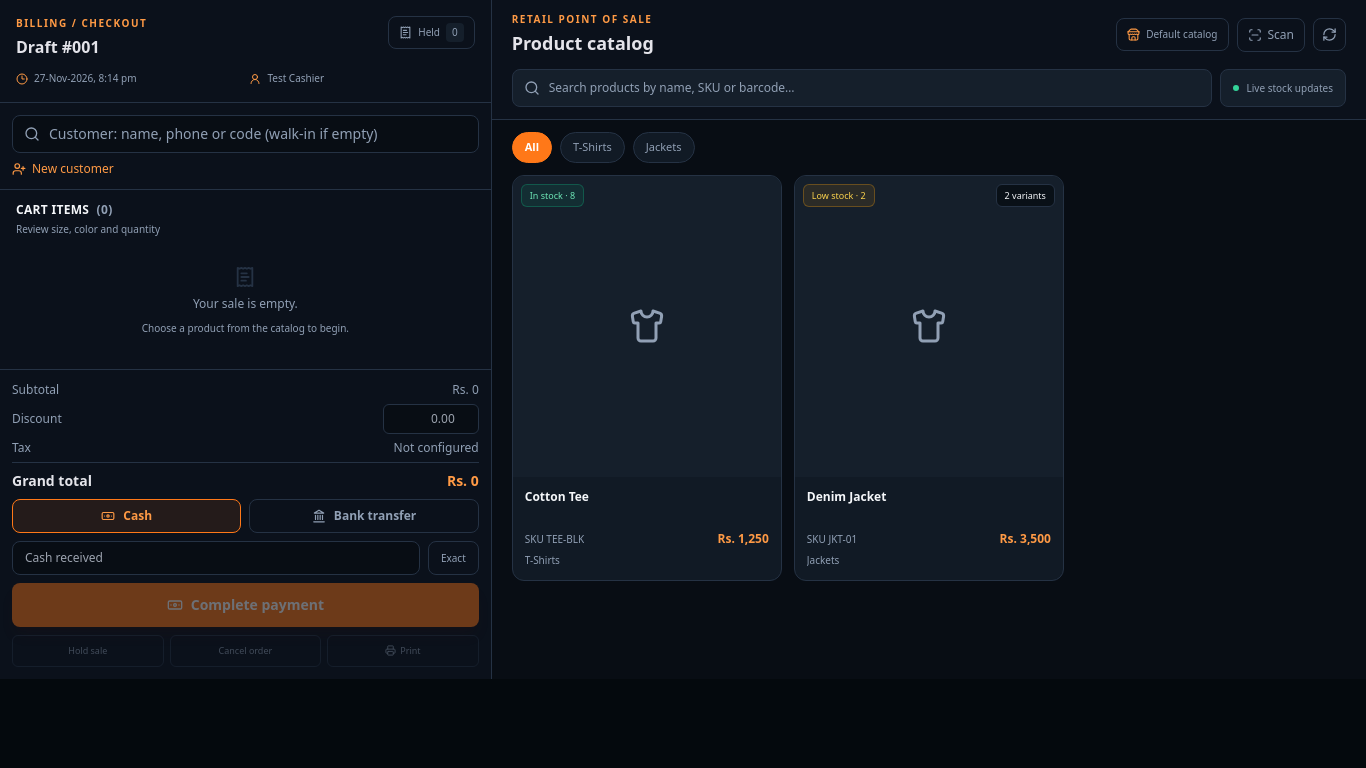
it: POS terminal › requires an available size and color variant before adding it to the cart
Click the button "Denim Jacket": (929, 378) [794, 174, 1064, 581]
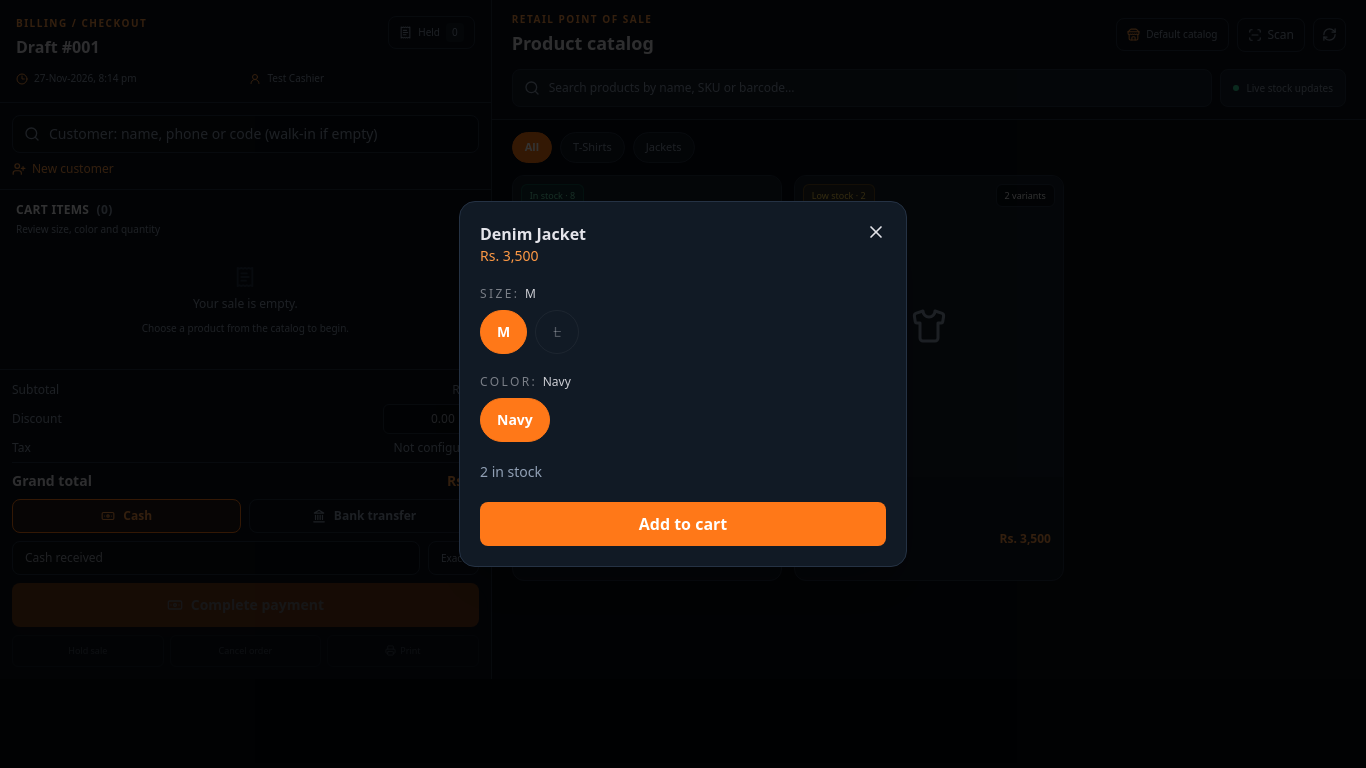
Check: the button "L" is disabled, box [535, 310, 579, 354]
Check: the dialog named "Choose options for Denim Jacket" is shown, box [459, 201, 907, 567]
Click the button "Add to cart": (683, 524) [480, 502, 886, 546]
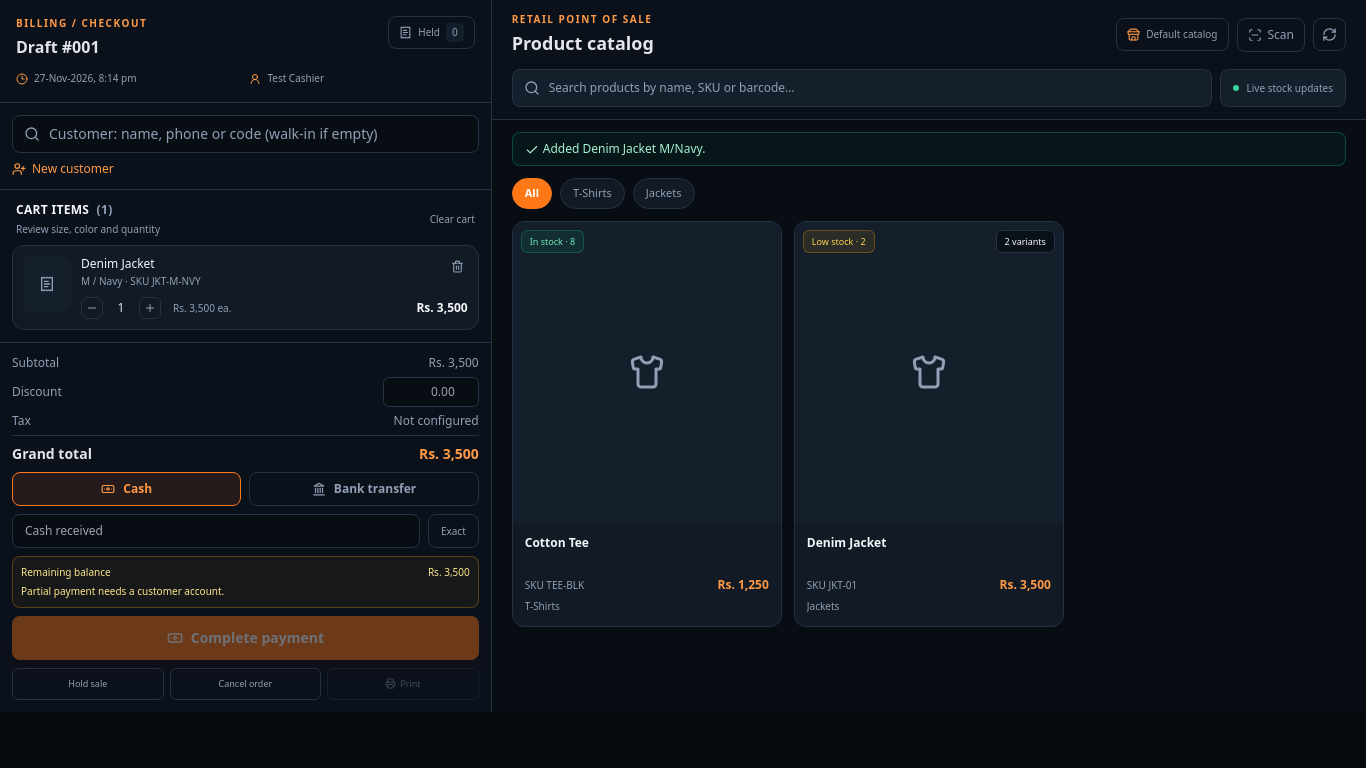
Check: the text "M / Navy · SKU JKT-M-NVY" is shown, box [81, 274, 201, 289]
